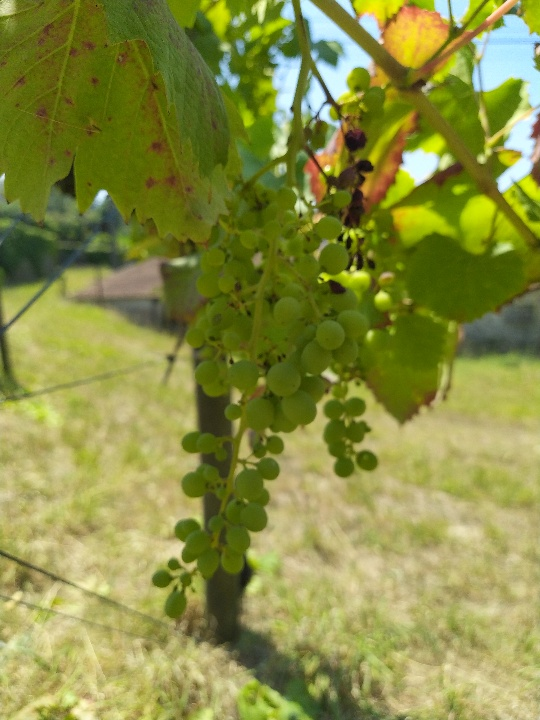grape: (150, 177, 368, 621)
